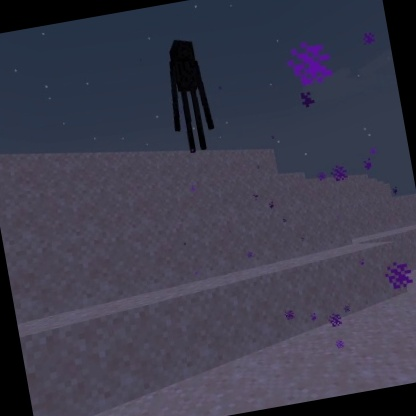enderman: (156, 33, 221, 158)
